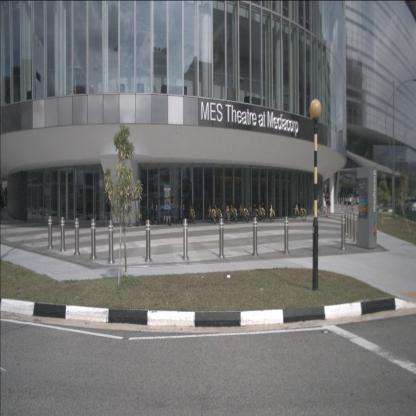human-pedestrian-adult: (324, 191, 331, 217), (0, 188, 4, 212), (4, 187, 8, 209), (323, 196, 326, 214)
vehicle-bicycle: (291, 204, 307, 222)
vehicle-car: (402, 197, 416, 214), (344, 193, 356, 206), (352, 197, 360, 204)
